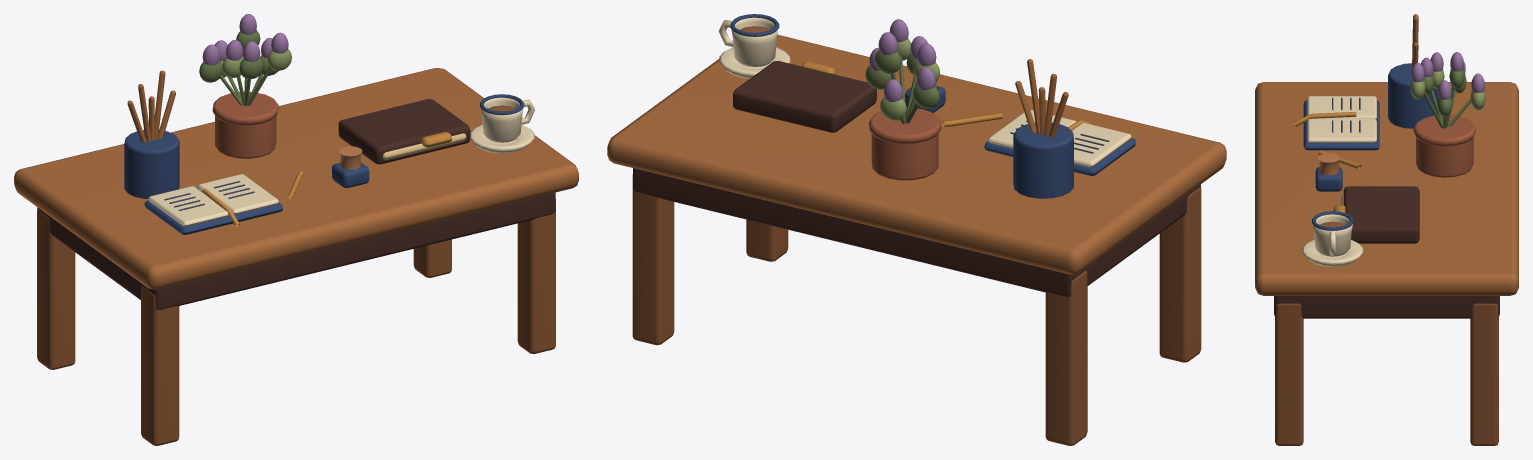
Rendered from living-worktable.glb.
3 renders of one model, left to right at view 1: azimuth 30°, elevation 25°; view 2: azimuth 150°, elevation 25°; view 3: azimuth 270°, elevation 25°, orthographic. The views are drawn at different scales.
Parts seen in each view (by area): view 1: living_worktable_pivot_Mesh; view 2: living_worktable_pivot_Mesh; view 3: living_worktable_pivot_Mesh.
Boxes of the visible parts, x1,y1,x2,y2 form: living_worktable_pivot_Mesh: (14,14,578,445); living_worktable_pivot_Mesh: (607,14,1226,445); living_worktable_pivot_Mesh: (1255,14,1518,445).
Size of the model in its own units: 2.59 by 1.82 by 1.46.
